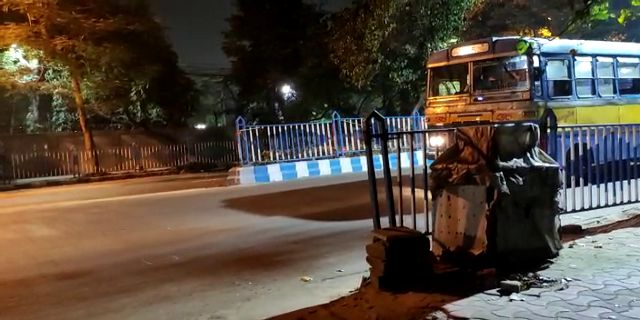Bus: (418, 37, 634, 170)
